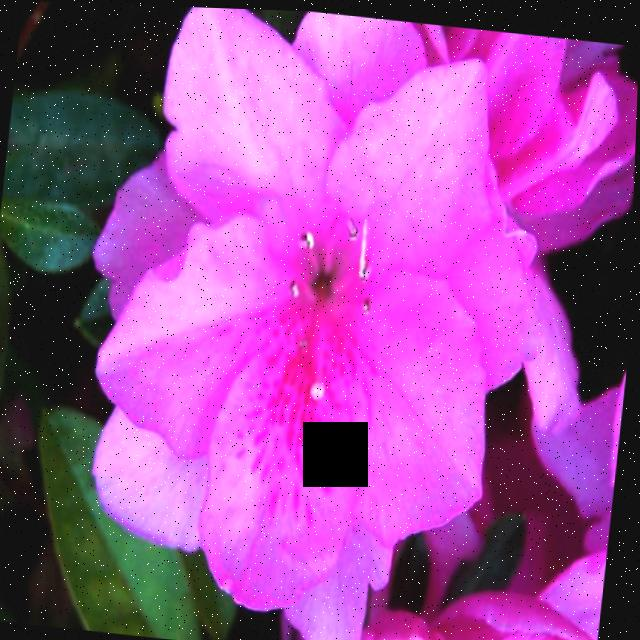azalea: (72, 3, 542, 625)
